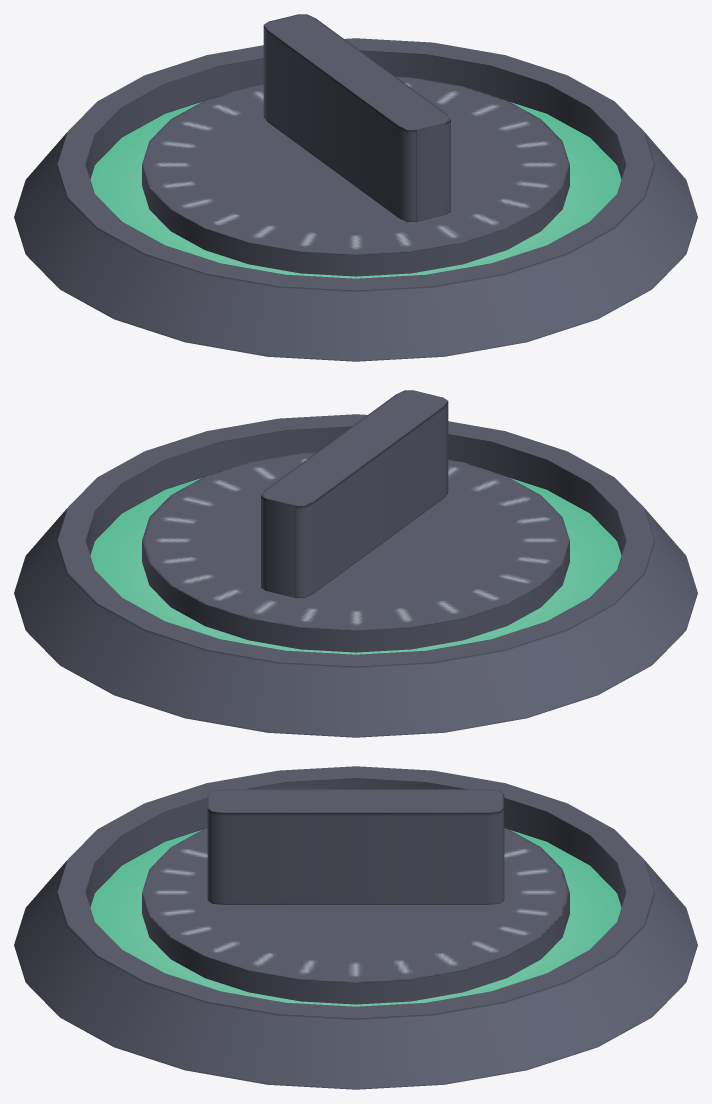
The model's file is Button_Big_Circular_Green.FBX.
The picture shows the model from 3 angles, top to bottom: view 1: azimuth 30°, elevation 25°; view 2: azimuth 150°, elevation 25°; view 3: azimuth 270°, elevation 25°; orthographic projection.
Visible parts, largest first — view 1: Button_Big_Circular_Green, Turn_Me_On; view 2: Button_Big_Circular_Green, Turn_Me_On; view 3: Button_Big_Circular_Green, Turn_Me_On.
Boxes of the visible parts, bbox=[...] form: Button_Big_Circular_Green: bbox=[14, 38, 697, 361]; Turn_Me_On: bbox=[142, 14, 569, 276]; Button_Big_Circular_Green: bbox=[14, 414, 697, 737]; Turn_Me_On: bbox=[142, 390, 569, 652]; Button_Big_Circular_Green: bbox=[14, 766, 697, 1089]; Turn_Me_On: bbox=[142, 789, 569, 1004].
Bounding box in the file's own units: 0.2964 × 0.0691 × 0.2964.
